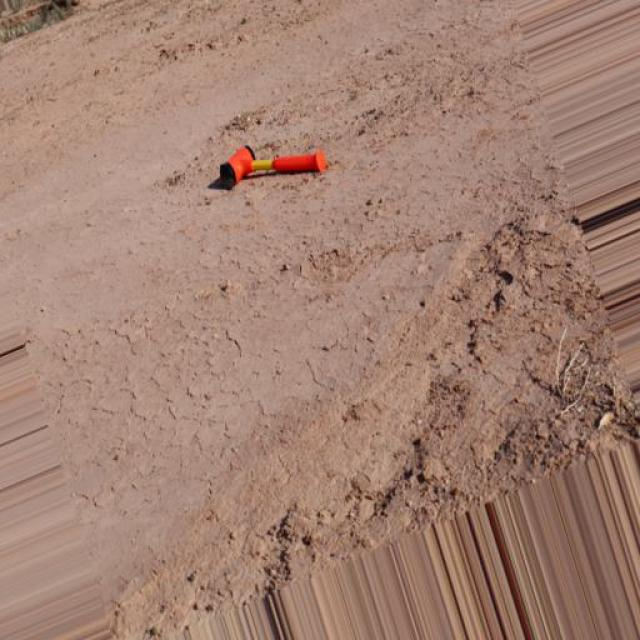mallet: (216, 142, 329, 188)
